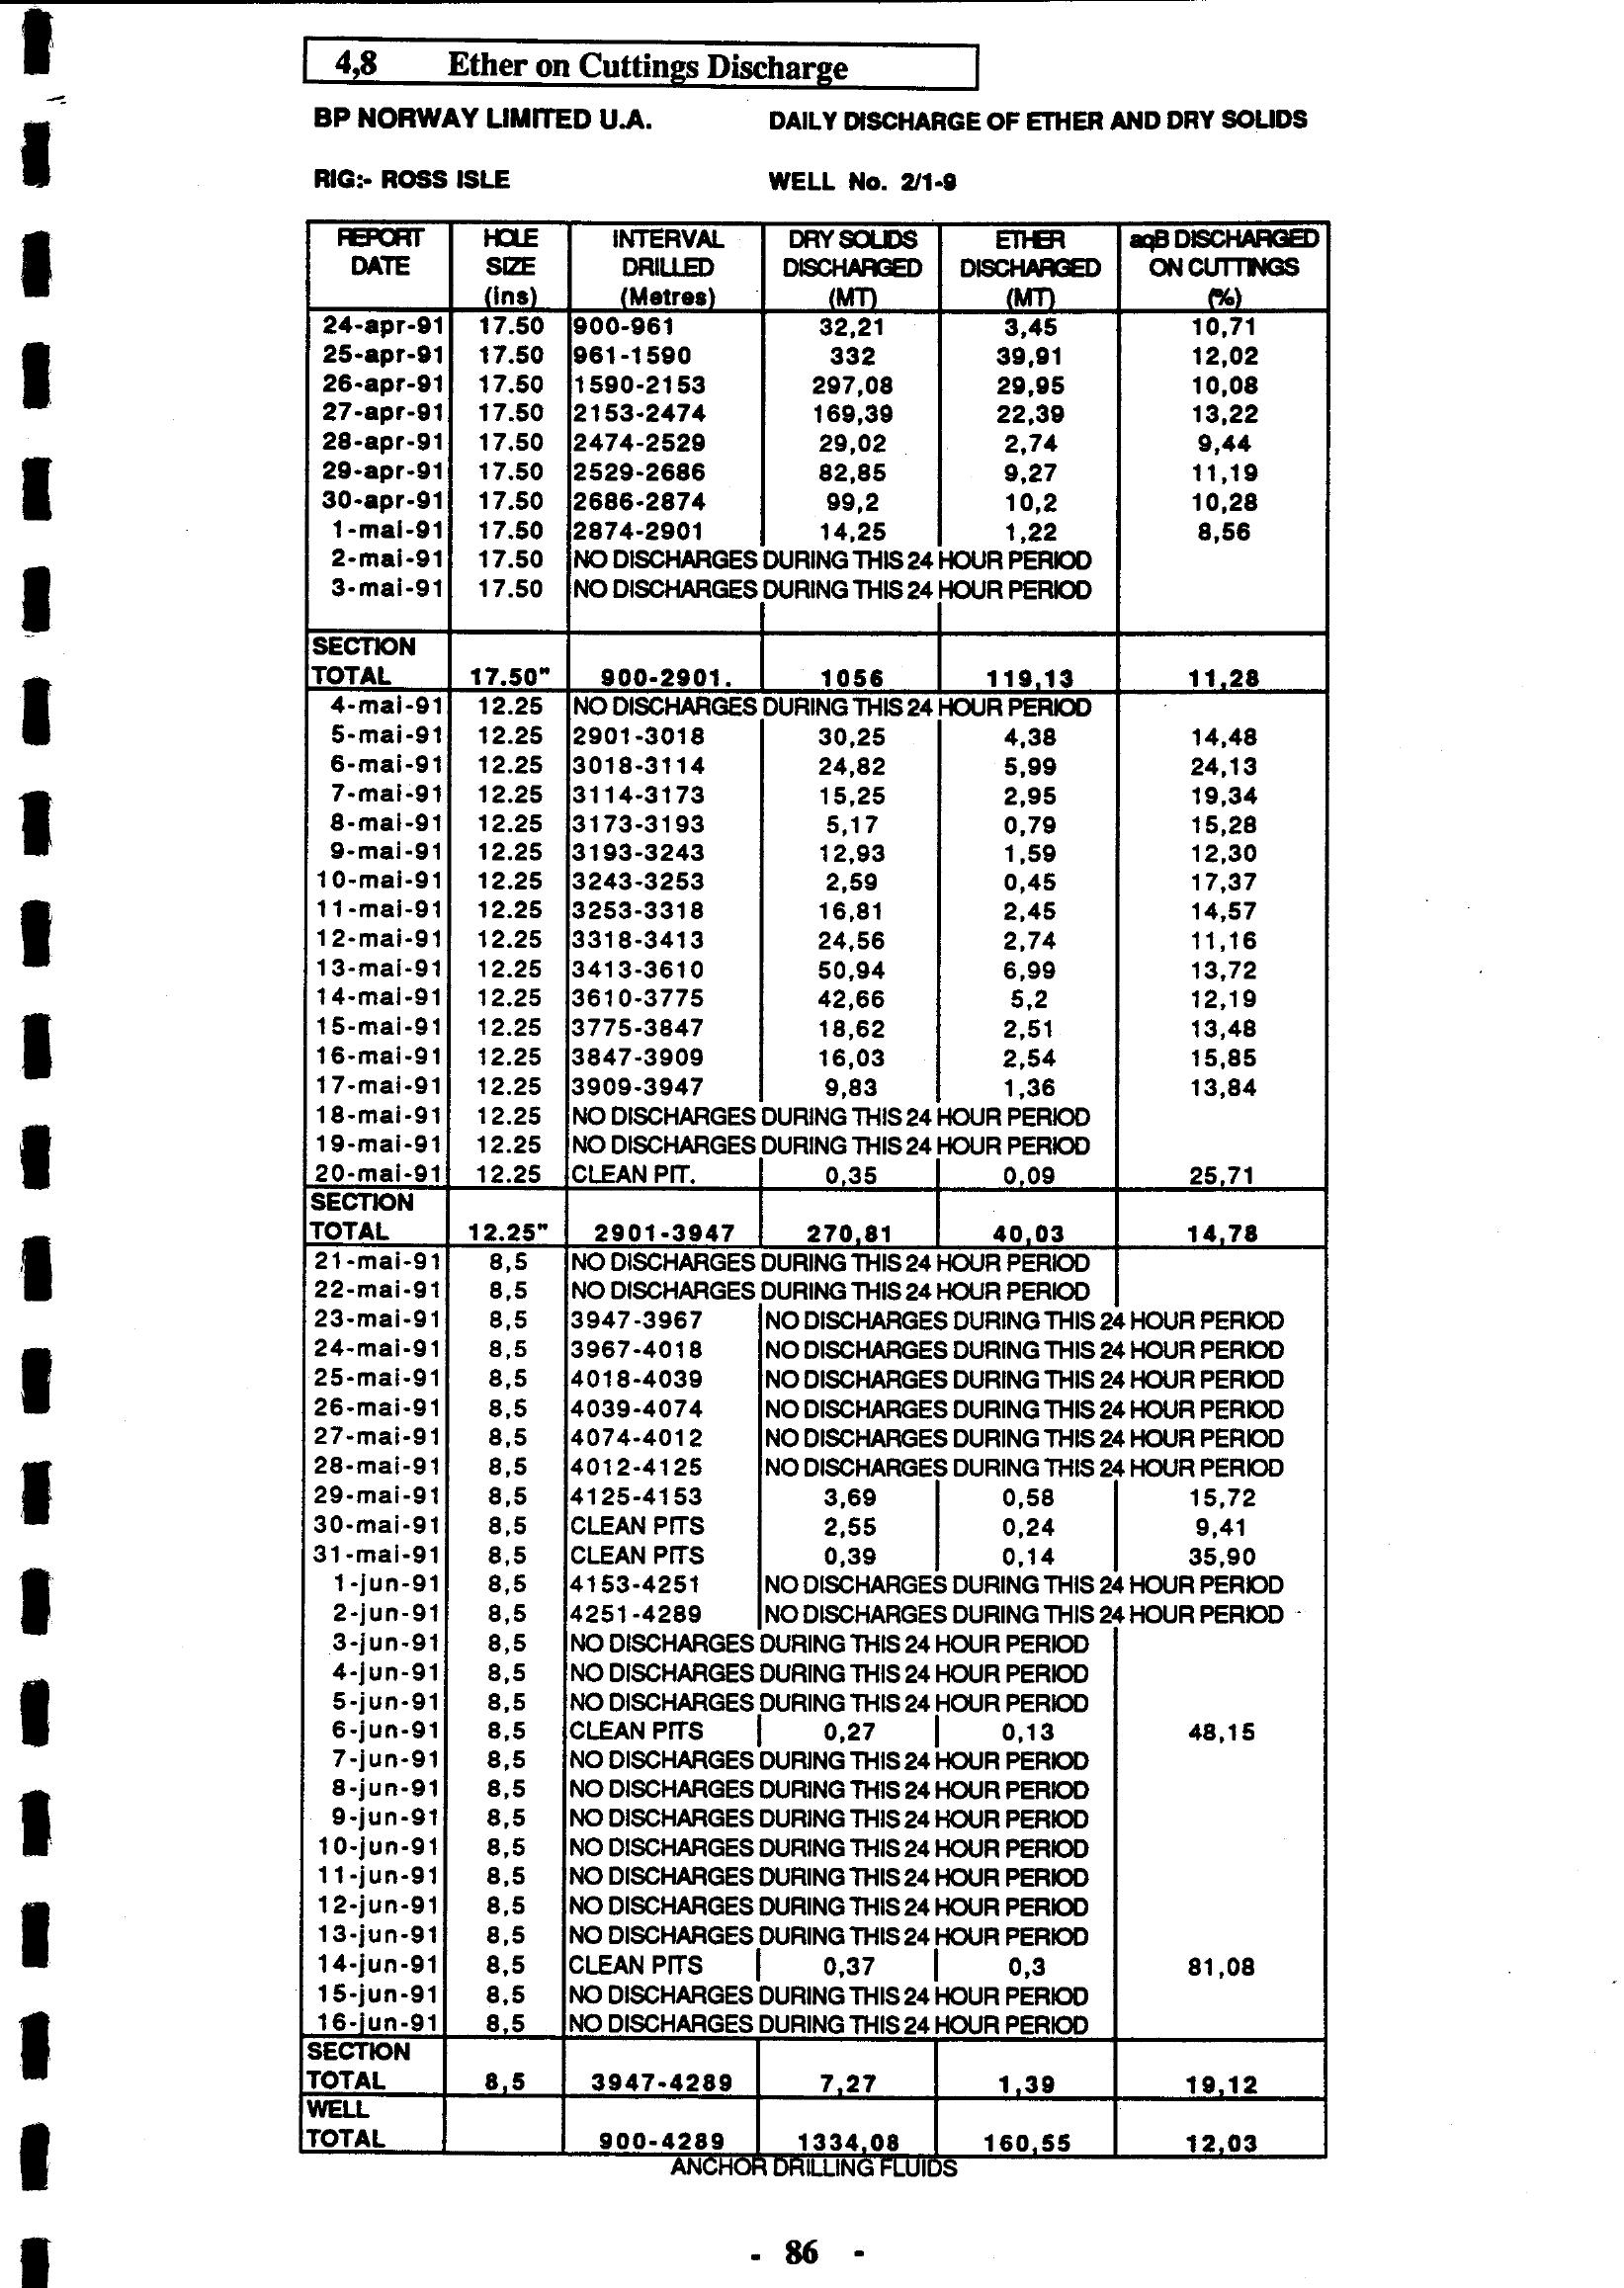table: (286, 25, 1383, 2205)
